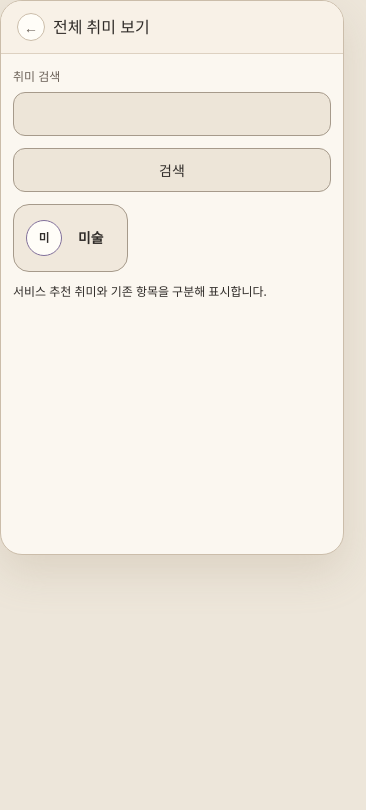
Test: 기존 취미 항목을 서비스 추천 목록으로 표시하지 않는다
The width and height of the screenshot is (366, 810).
Click the button "미 미술".
click(71, 238)  # box [13,204,128,272]
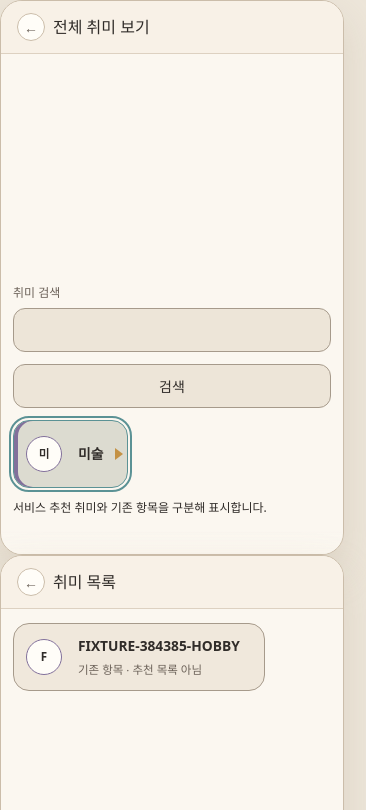
Check: the text "기존 항목 · 추천 목록 아님" is shown, box [78,662,202,677]
Click the button "F FIXTURE-384385-HOBBY 기존 항목 · 추천 목록 아님".
click(139, 657)  # box [13,623,265,691]
(page scrolled)
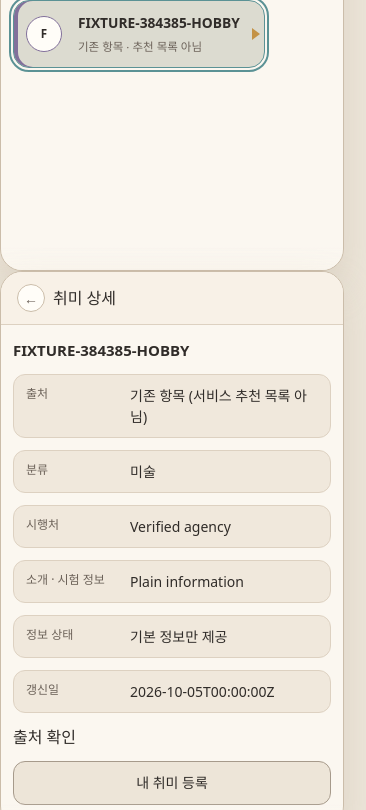
Check: the text "기존 항목 (서비스 추천 목록 아님)" is shown, box [130,384,318,426]
